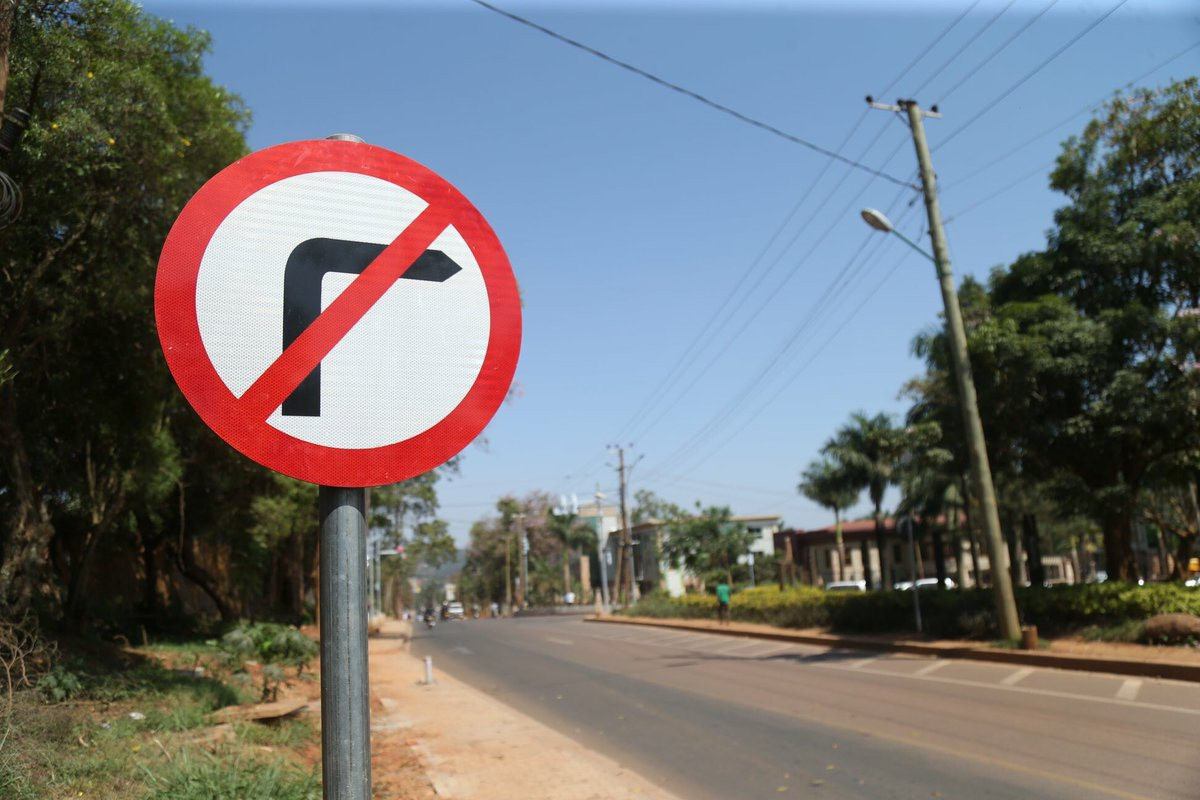No_right_turn: (153, 137, 525, 487)
